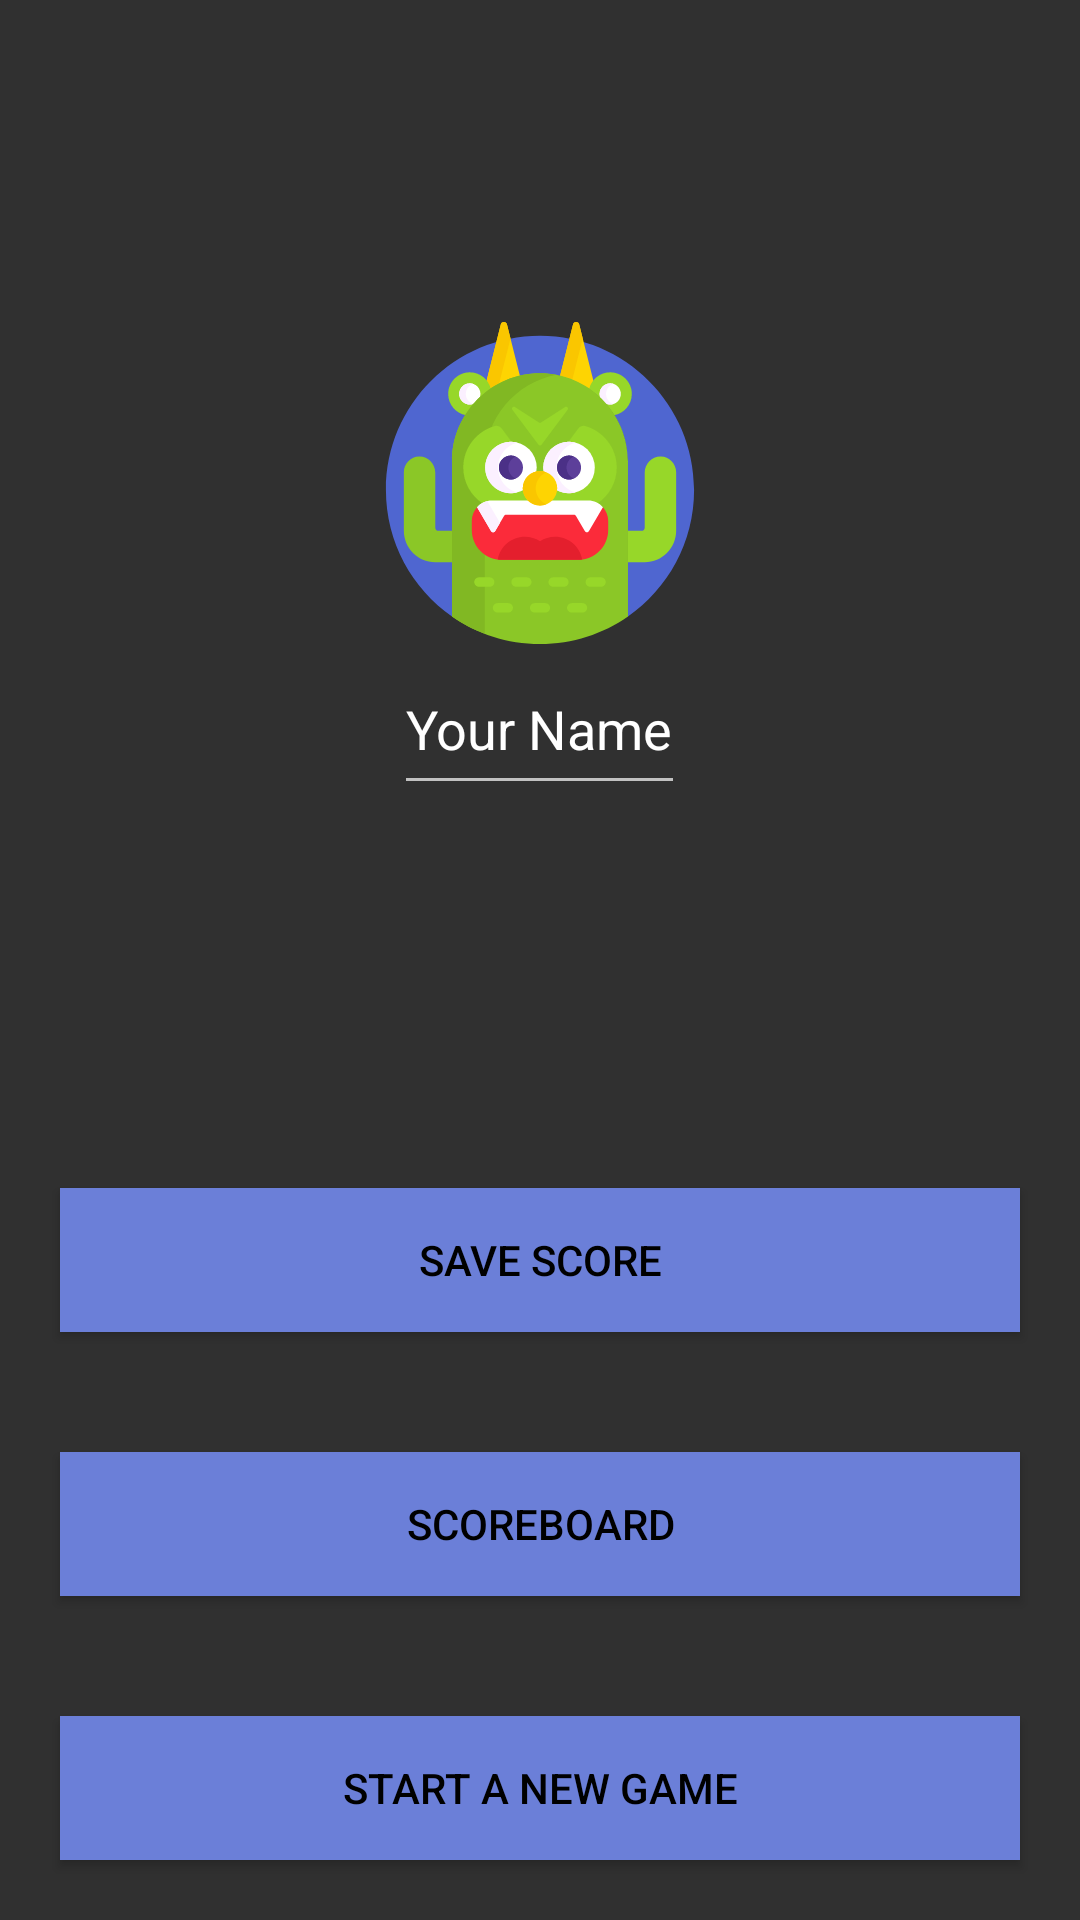

Icons on this 1080x1920 Android screen, each with its box as (x1, y1, x2, y2):
Winner Card Image: (386, 322, 694, 644)
